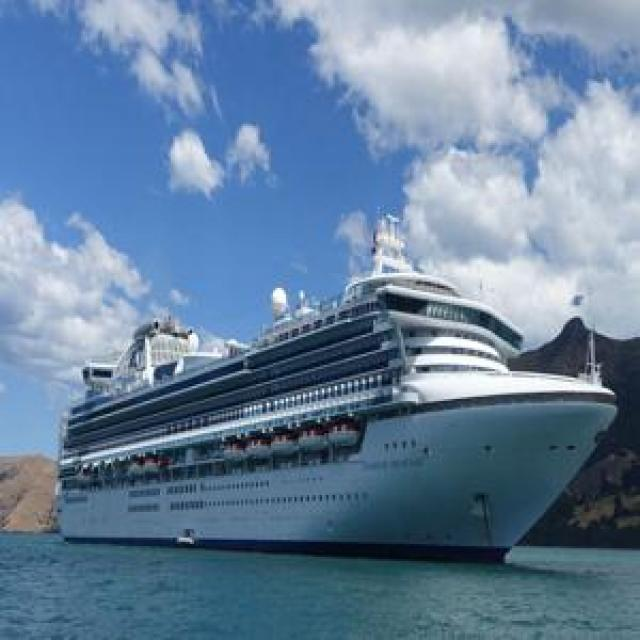passenger ship: (53, 241, 640, 570)
